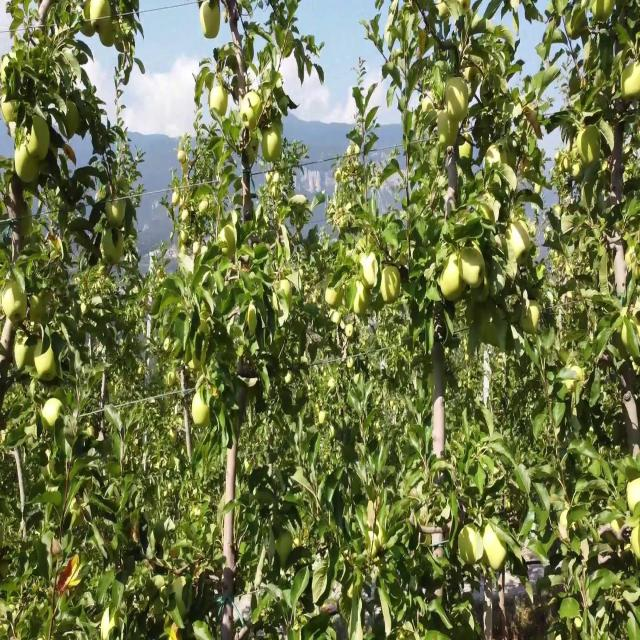apple: (440, 255, 466, 304), (508, 220, 531, 265), (4, 284, 28, 327), (16, 142, 41, 183), (460, 248, 485, 288), (484, 526, 507, 569), (28, 120, 51, 162), (200, 0, 222, 43), (448, 78, 469, 123), (36, 348, 59, 384), (580, 127, 600, 165), (28, 291, 51, 324), (460, 526, 479, 565), (264, 127, 284, 164), (192, 391, 212, 428), (56, 561, 77, 596), (440, 113, 460, 149), (104, 234, 125, 268), (100, 14, 119, 50), (360, 255, 379, 290), (104, 199, 126, 229), (44, 398, 62, 434), (624, 63, 640, 103), (352, 284, 372, 315), (16, 341, 36, 372), (384, 270, 401, 306), (592, 0, 614, 27), (628, 476, 640, 524), (212, 85, 228, 119), (64, 106, 80, 137), (524, 305, 540, 334), (476, 277, 492, 306), (92, 0, 112, 23), (104, 611, 119, 638), (464, 63, 477, 91), (460, 142, 472, 169), (568, 14, 579, 41), (80, 21, 96, 39), (12, 127, 25, 148), (96, 7, 113, 23), (328, 291, 343, 308), (376, 291, 387, 313), (84, 7, 99, 23), (280, 284, 292, 304), (488, 149, 500, 167), (572, 163, 582, 183), (440, 7, 450, 21), (348, 327, 356, 341)
